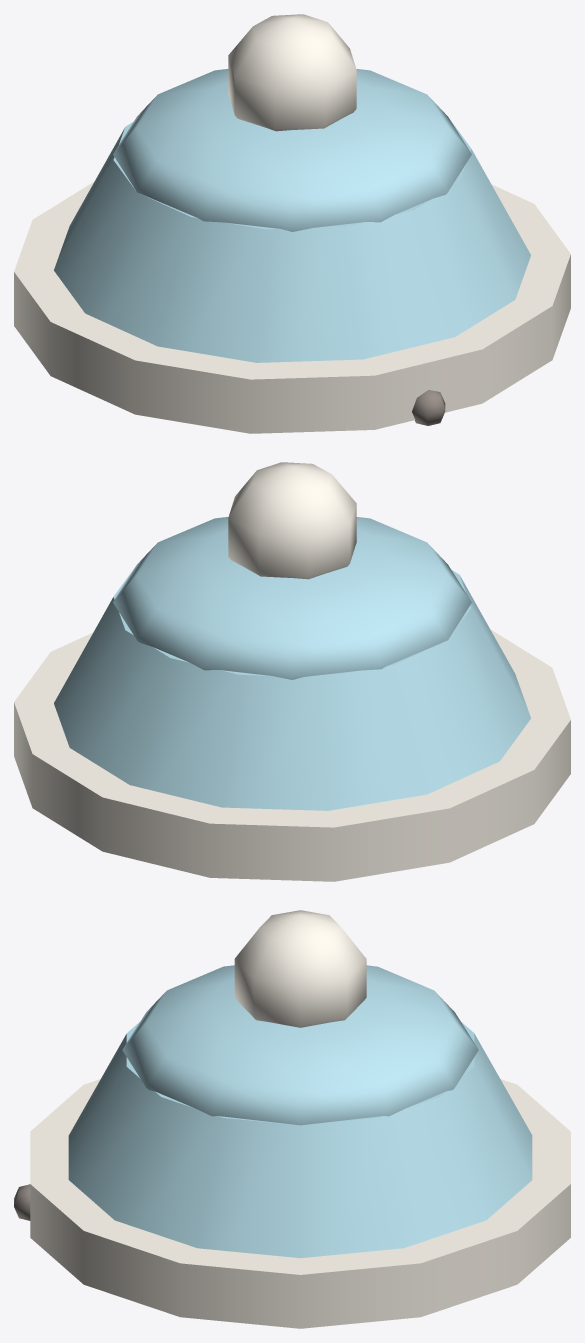
File: hat_beanie.glb
3 views of the same model, one above another, from view 1: azimuth 30°, elevation 25°; view 2: azimuth 150°, elevation 25°; view 3: azimuth 270°, elevation 25° (orthographic).
Parts seen in each view (by area): view 1: hat_beanie; view 2: hat_beanie; view 3: hat_beanie.
Boxes of the visible parts, x1,y1,x2,y2 form: hat_beanie: [14, 14, 570, 433]; hat_beanie: [14, 462, 570, 881]; hat_beanie: [14, 910, 570, 1328].
Size of the model in its own units: 28 by 17 by 28.12.
